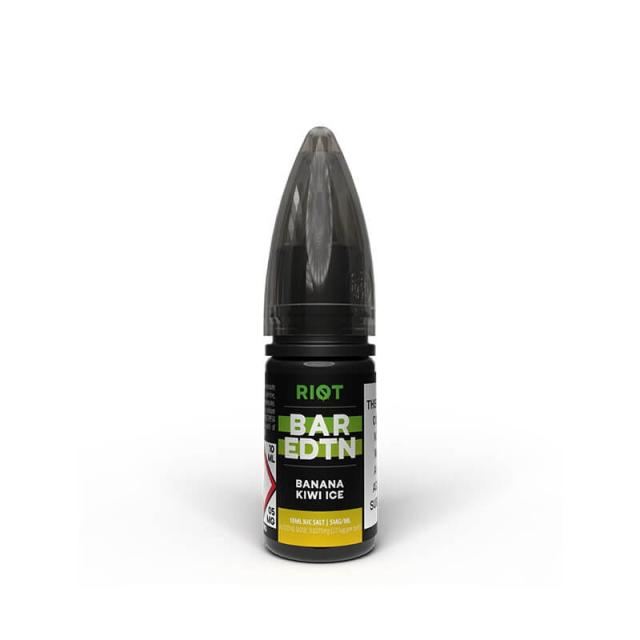Vape-images: (259, 125, 380, 563)
